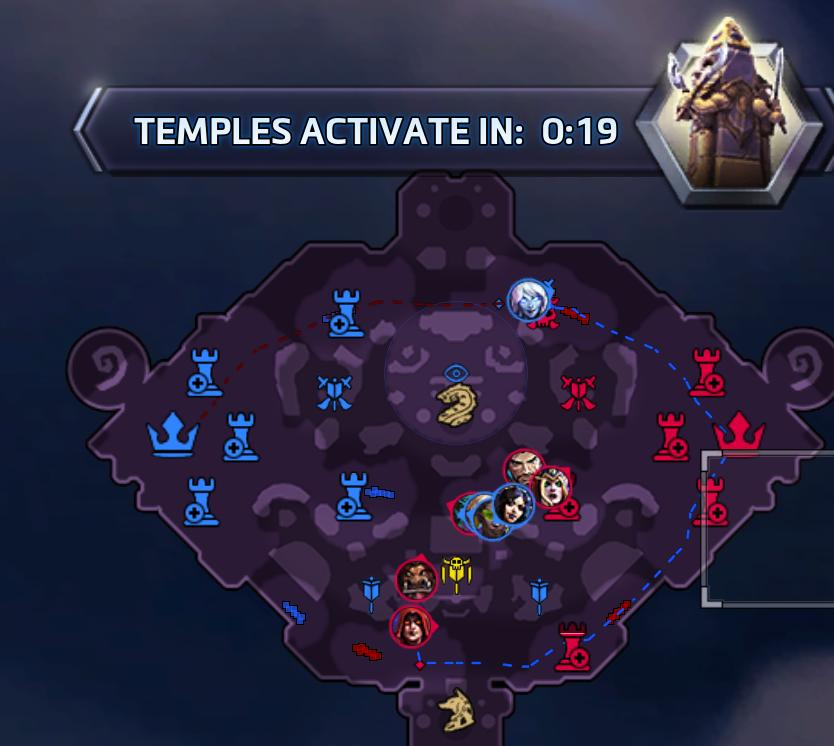blue nexus: (140, 407, 204, 461)
blue player: (458, 492, 510, 541), (506, 277, 552, 324), (490, 482, 535, 527)
blue tower: (217, 409, 266, 465), (330, 464, 375, 524), (179, 473, 224, 531), (326, 286, 366, 338), (185, 346, 224, 398)
red nexus: (713, 411, 767, 457)
red player: (393, 556, 438, 603), (389, 605, 436, 649), (531, 465, 573, 508), (502, 448, 544, 486), (448, 493, 483, 535)
red tower: (549, 617, 599, 676), (692, 472, 729, 527), (687, 346, 726, 398), (652, 410, 690, 462)
